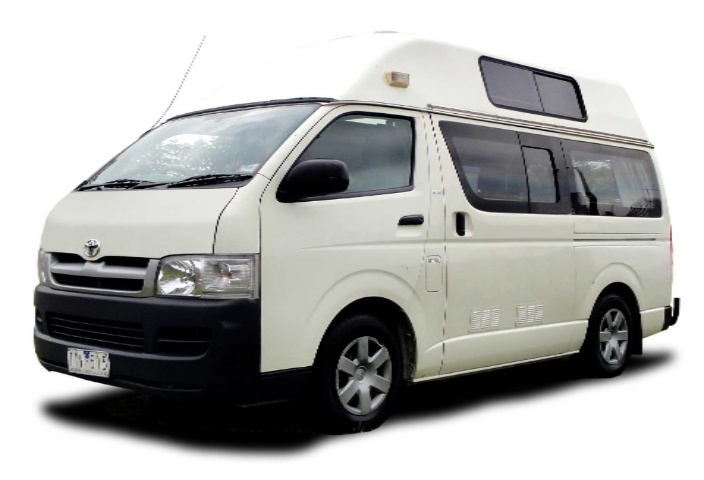van: (33, 22, 689, 429)
